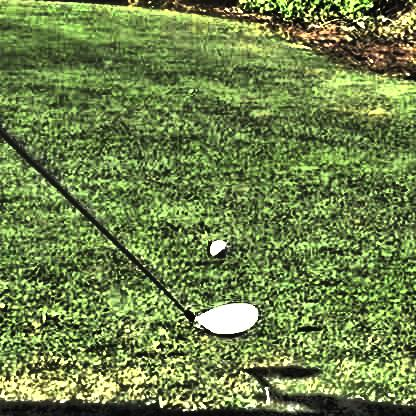golfball: (206, 237, 227, 257)
